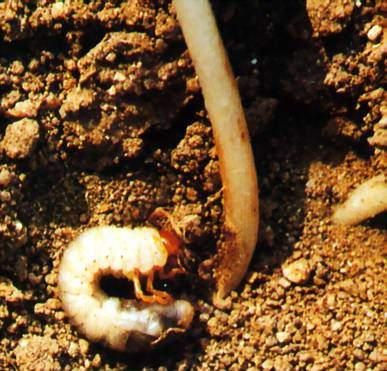grub: (55, 220, 198, 355)
